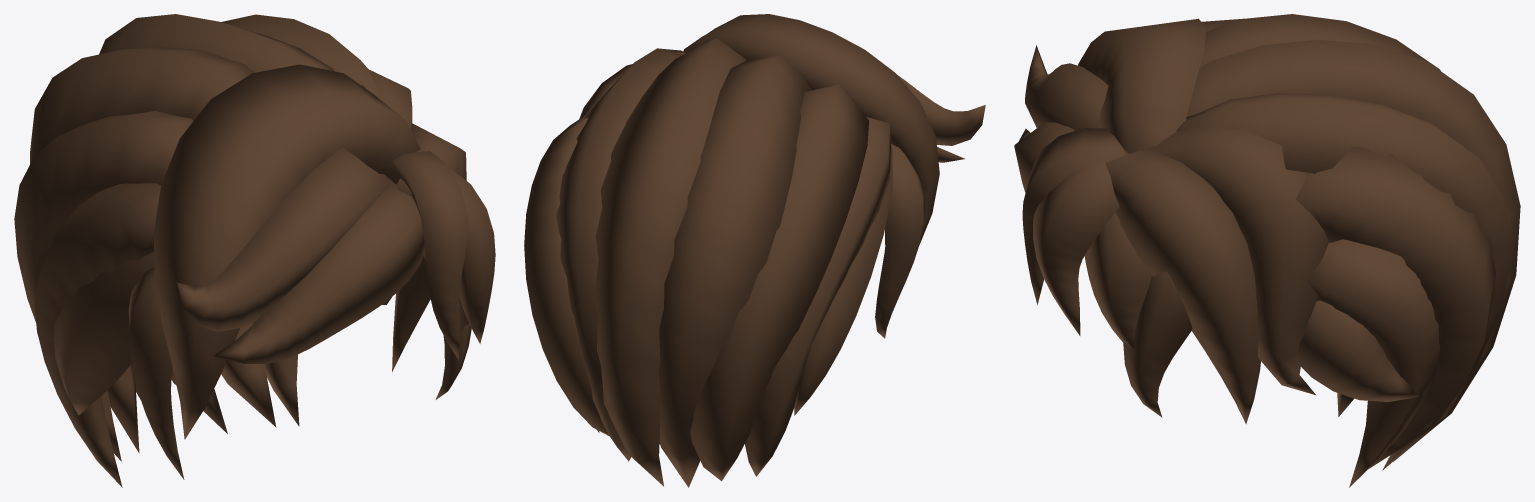
Rendered from umm_suit.glb.
3 renders of one model, left to right at view 1: azimuth 30°, elevation 25°; view 2: azimuth 150°, elevation 25°; view 3: azimuth 270°, elevation 25°, orthographic. The views are drawn at different scales.
Visible parts, largest first — view 1: Suit; view 2: Suit; view 3: Suit.
Part boxes in pixels (x1,y1,x2,y2): Suit: [14, 14, 495, 487]; Suit: [524, 14, 985, 487]; Suit: [1014, 14, 1520, 487].
Bounding box in the file's own units: 0.1953 × 0.2313 × 0.2492.
